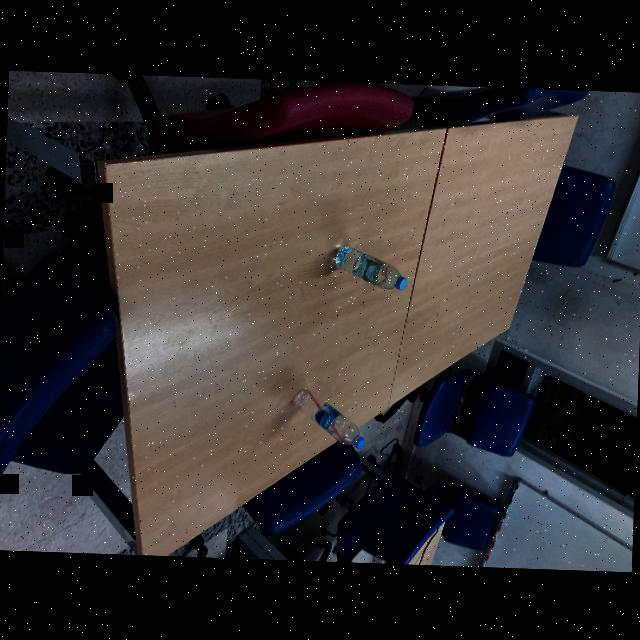plastic_bottle: (288, 384, 368, 448), (330, 244, 408, 291)
